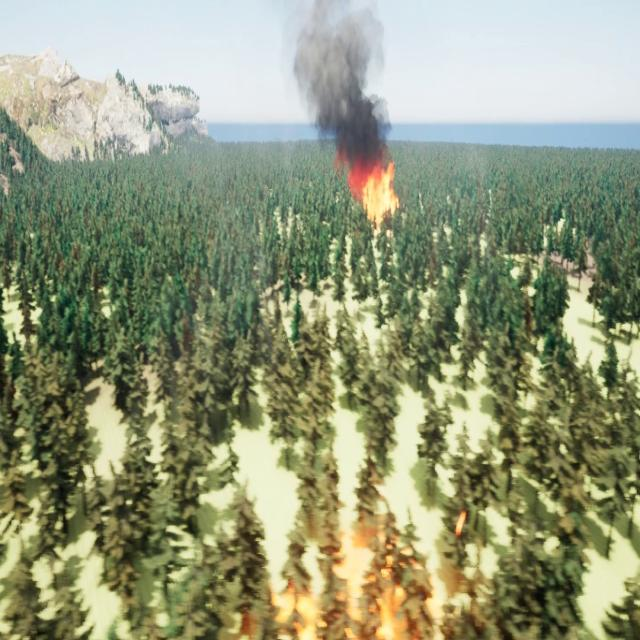fire: (270, 547, 421, 639), (364, 162, 404, 224)
smoke: (284, 0, 393, 190)
